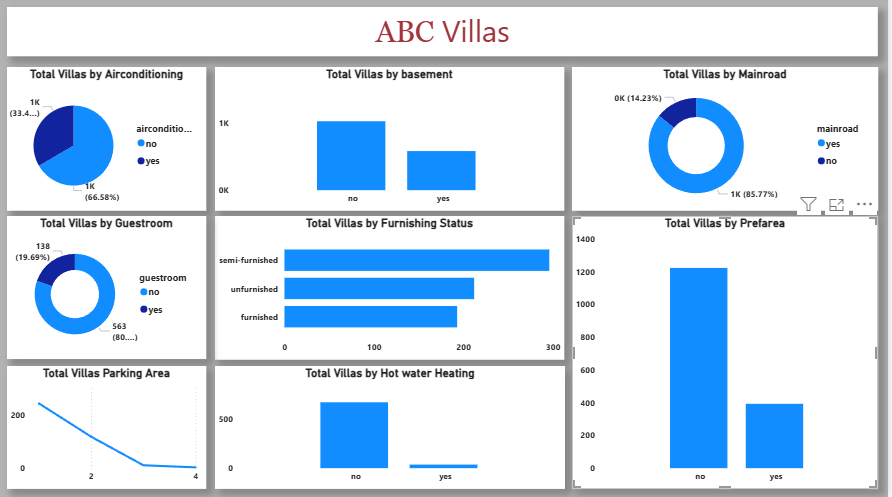

The dashboard page shown, as its layout file describes it:
{"tool":"powerbi","page":{"name":"Page 1","canvas":[1280,720],"ordinal":0},"visuals":[{"type":"textbox","box":[10.1,14.4,1254.2,70.6],"z":0},{"type":"pieChart","title":"Total Villas by Airconditioning","fields":{"Category":["Housing.airconditioning"],"Y":["Sum(Housing.bedrooms)"]},"box":[10.1,100.8,286.6,207.4],"z":1},{"type":"clusteredColumnChart","title":"Total Villas by basement","fields":{"Category":["Housing.basement"],"Y":["Sum(Housing.bedrooms)"]},"box":[309.6,100.8,502.6,207.4],"z":2},{"type":"clusteredBarChart","title":"Total Villas by Furnishing Status","fields":{"Category":["Housing.furnishingstatus"],"Y":["Sum(Housing.bathrooms)"]},"box":[309.6,315.4,502.6,207.4],"z":3},{"type":"donutChart","title":"Total Villas by Guestroom","fields":{"Category":["Housing.guestroom"],"Y":["Sum(Housing.bathrooms)"]},"box":[10.1,315.4,286.6,205.9],"z":4},{"type":"lineChart","title":"Total Villas Parking Area","fields":{"Y":["Sum(Housing.parking)"],"Category":["Housing.bathrooms"]},"box":[10.1,531.4,286.6,177.1],"z":5},{"type":"clusteredColumnChart","title":"Total Villas by Hot water Heating","fields":{"Category":["Housing.hotwaterheating"],"Y":["Sum(Housing.bathrooms)"]},"box":[309.6,531.4,504,177.1],"z":6},{"type":"donutChart","title":"Total Villas by Mainroad","fields":{"Category":["Housing.mainroad"],"Y":["Sum(Housing.bedrooms)"]},"box":[823.7,100.8,440.6,207.4],"z":7},{"type":"clusteredColumnChart","title":"Total Villas by Prefarea","fields":{"Category":["Housing.prefarea"],"Y":["Sum(Housing.bedrooms)"]},"box":[823.7,315.4,440.6,393.1],"z":8}]}

Visuals, with their boxes in screenshot pixels (x1, y1, x2, y2), scaled from the page's 1280x720 canvas onto the 892x497 screenshot:
textbox: bbox=(7, 10, 881, 59)
"Total Villas by Airconditioning" pieChart: bbox=(7, 70, 207, 213)
"Total Villas by basement" clusteredColumnChart: bbox=(216, 70, 566, 213)
"Total Villas by Furnishing Status" clusteredBarChart: bbox=(216, 218, 566, 361)
"Total Villas by Guestroom" donutChart: bbox=(7, 218, 207, 360)
"Total Villas Parking Area" lineChart: bbox=(7, 367, 207, 489)
"Total Villas by Hot water Heating" clusteredColumnChart: bbox=(216, 367, 567, 489)
"Total Villas by Mainroad" donutChart: bbox=(574, 70, 881, 213)
"Total Villas by Prefarea" clusteredColumnChart: bbox=(574, 218, 881, 489)
